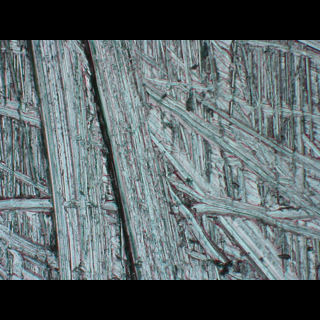d: (0, 41, 319, 279)
